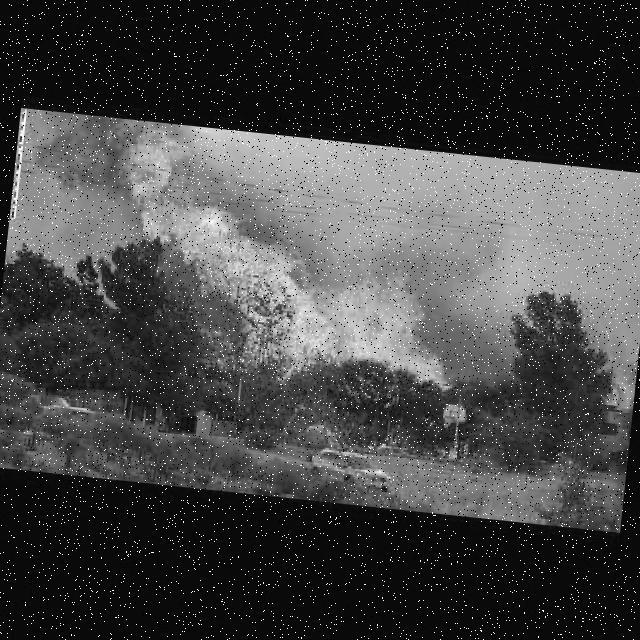Fire: (37, 112, 482, 395)
